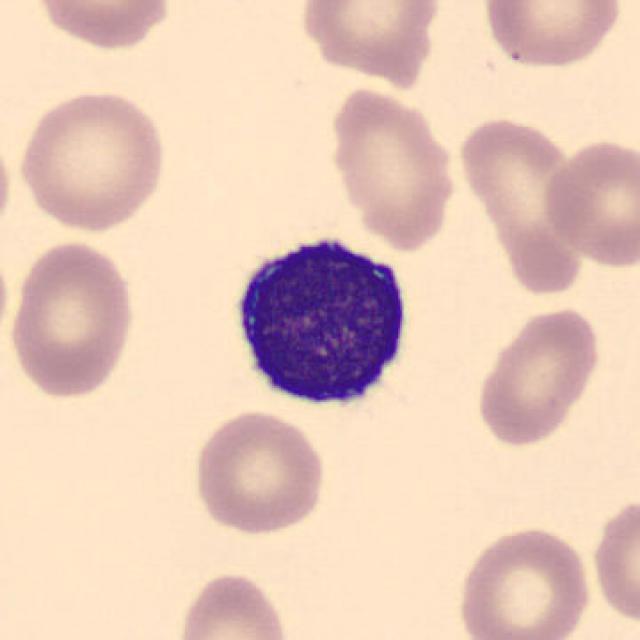Lymphocyte: (219, 220, 423, 422)
RBC: (453, 111, 587, 300), (12, 84, 170, 234), (326, 83, 460, 252), (10, 239, 144, 406), (471, 302, 605, 449), (188, 406, 329, 538), (452, 522, 596, 640), (540, 134, 638, 272), (295, 0, 443, 85), (478, 0, 625, 72), (172, 567, 293, 640), (26, 0, 178, 53), (588, 490, 640, 630)
